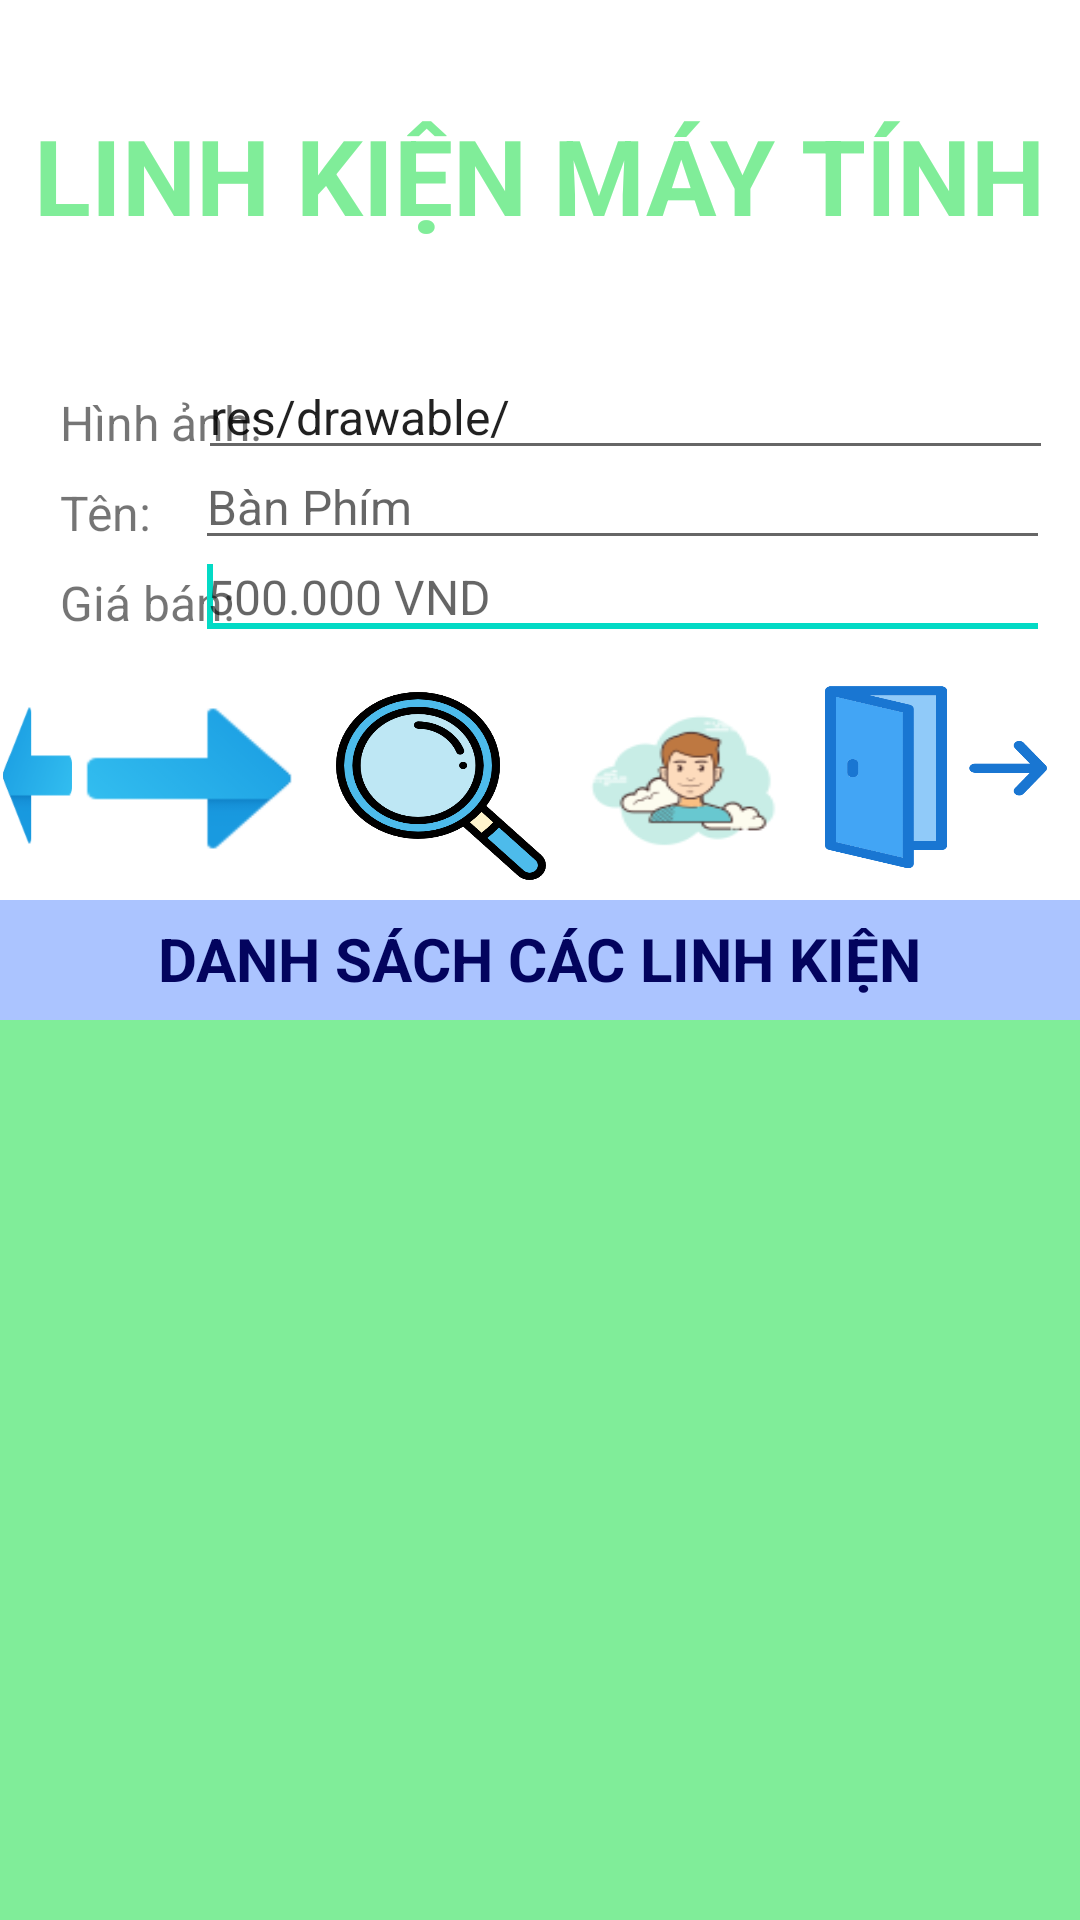

Icons on this 1080px x 1920px Android screen, each with the point to tap as [x,y]:
exit: [936,777]
lui: [37,775]
search: [441,786]
toi: [189,778]
